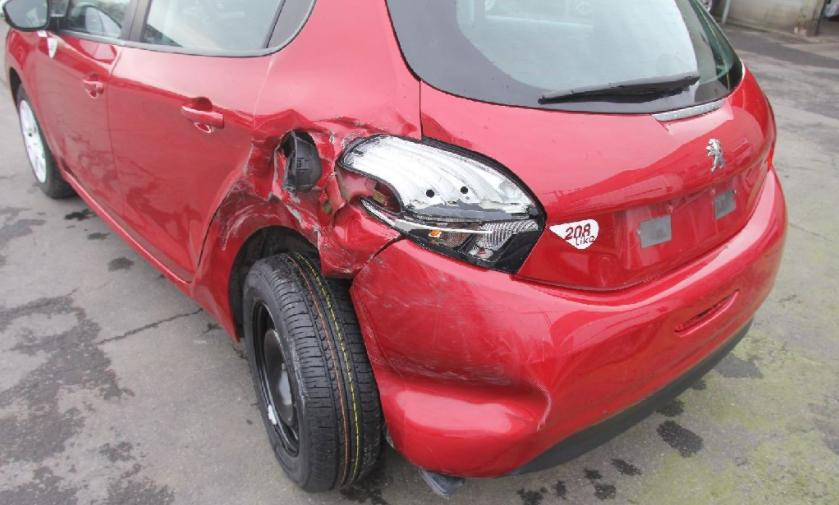Back-bumper: (349, 167, 786, 477)
Back-door: (107, 1, 285, 283)
Back-wheel: (243, 250, 379, 494)
Back-window: (139, 0, 311, 51)
Back-windshield: (387, 1, 745, 114)
Fender: (4, 27, 64, 176)
Front-door: (33, 0, 137, 227)
Front-wheel: (17, 85, 75, 198)
Front-window: (42, 0, 129, 39)
Mirror: (2, 0, 69, 31)
Quarter-panel: (192, 55, 422, 344)
Rocker-panel: (61, 168, 192, 298)
Tail-light: (336, 134, 543, 274)
Trunk: (386, 0, 778, 295)
